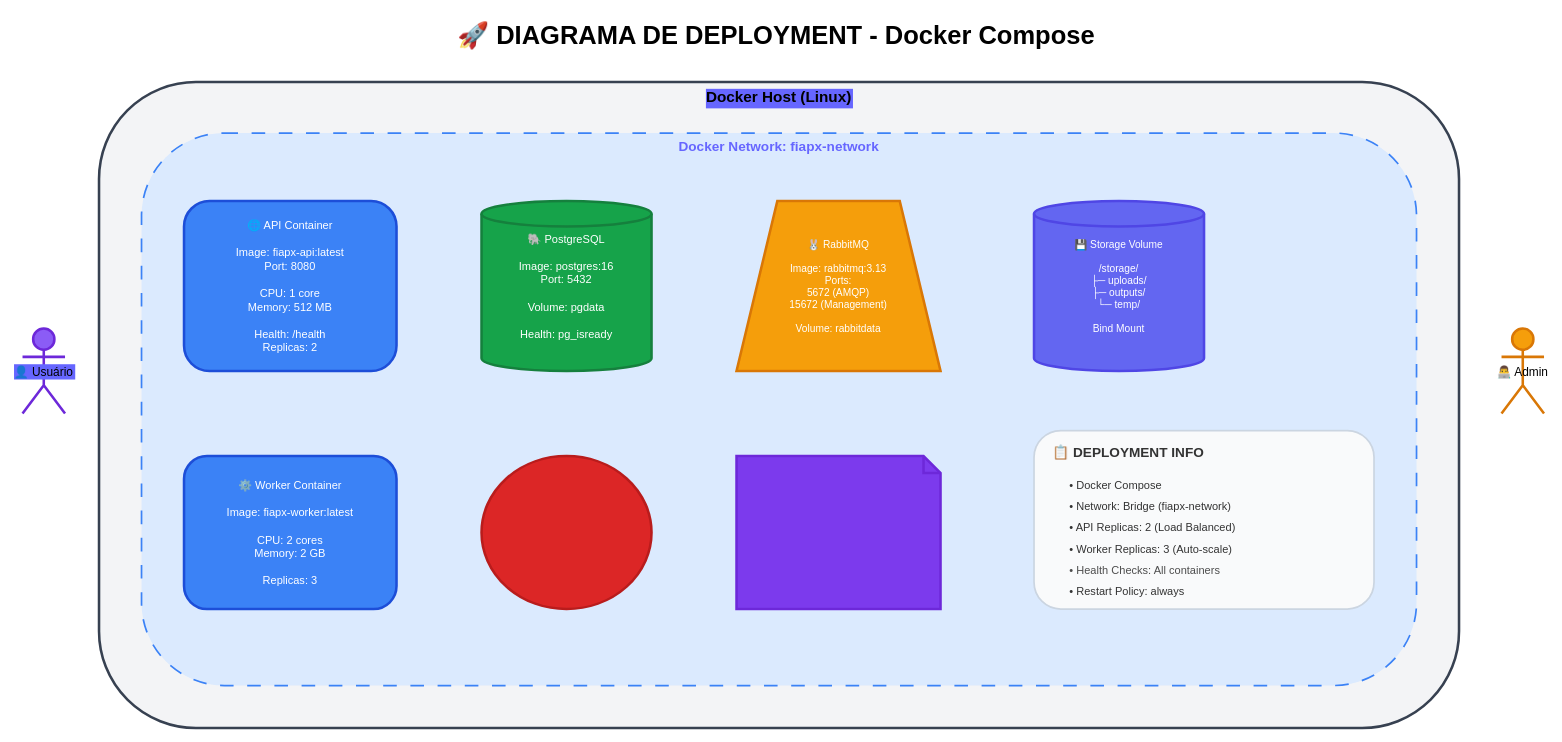
Some shapes in this 1562 by 742 pixel diagram are drawn without their labels. The centre of each missing label's shape, as x and y in pixels:
"⚡ Redis Image: redis:7 Port: 6379 Health: redis-cli ping" goes at point 566,532.
"📊 Seq Image: datalust/seq Port: 8081 Volume: seqdata Logs centralizados" goes at point 838,532.
